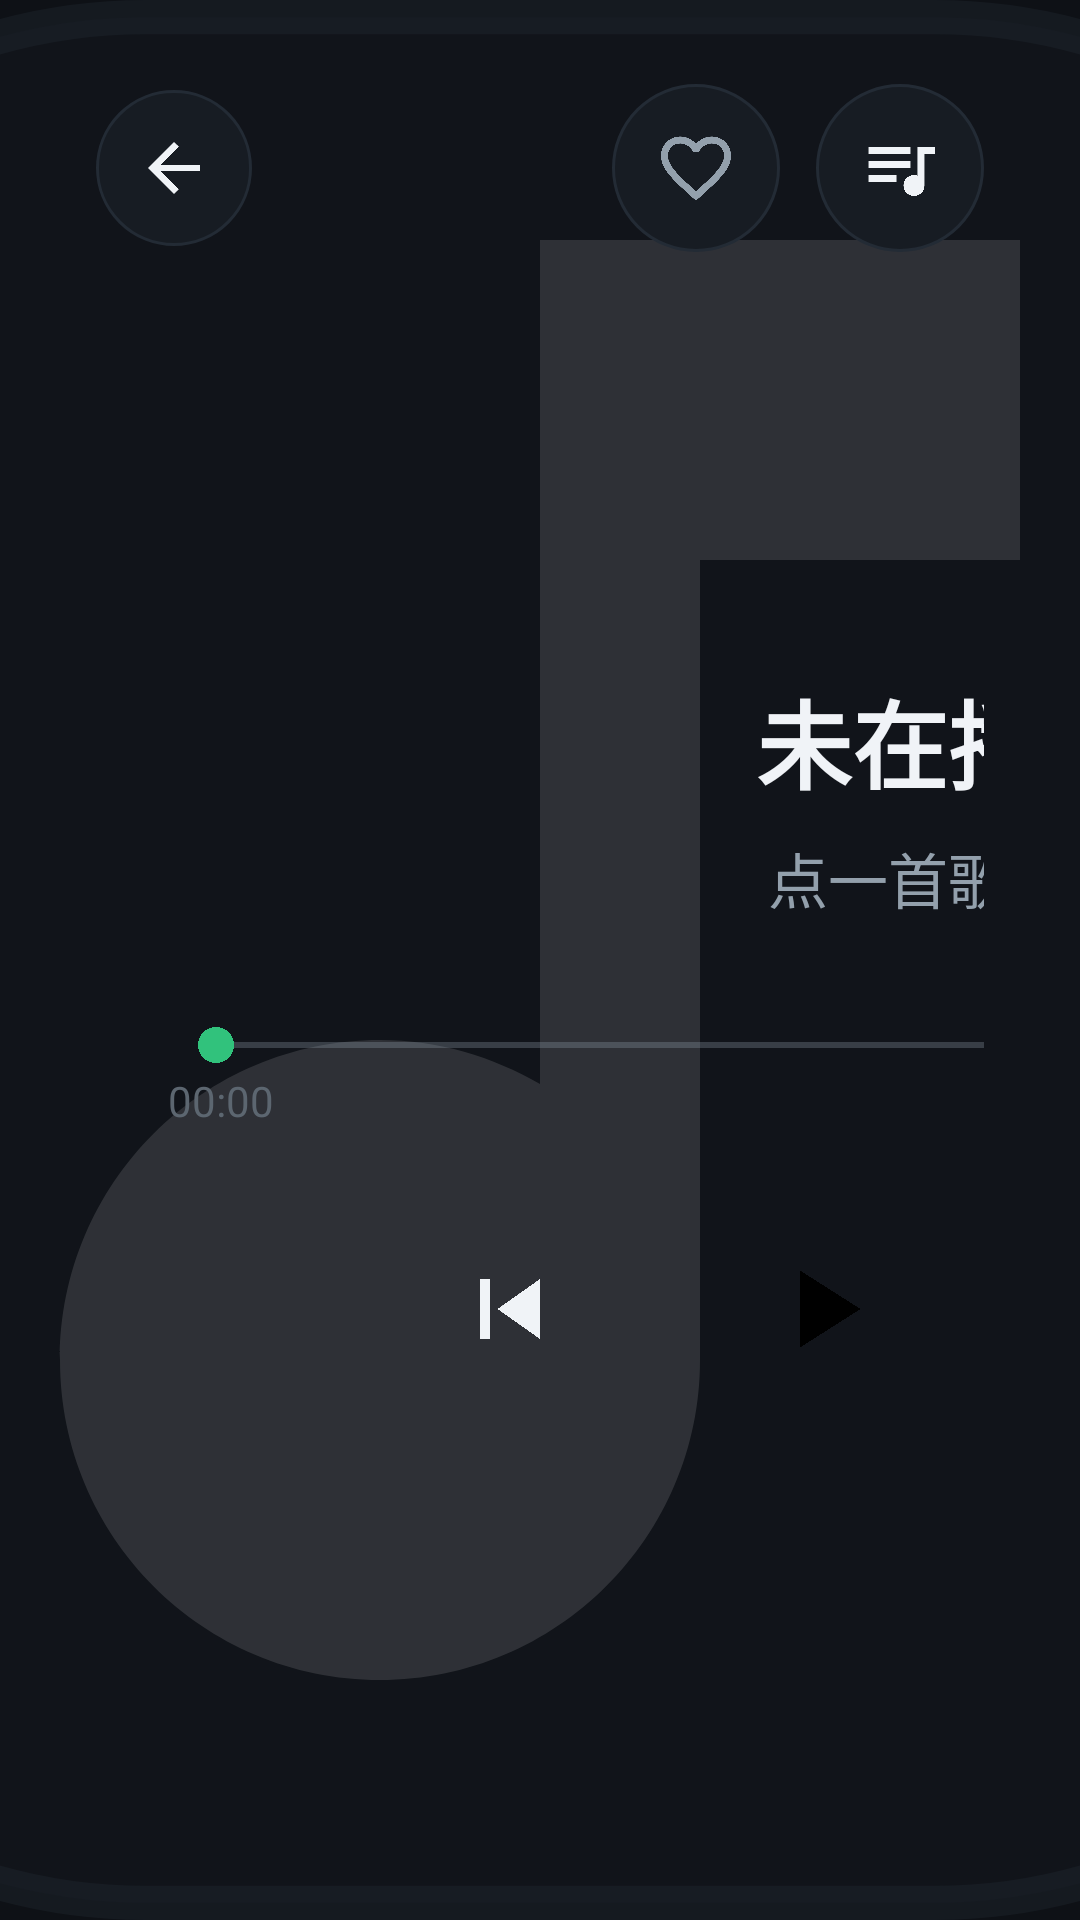

Icons on this 1080 x 1920 Android screen, each with the point to tap as (x=x, y=y):
上一曲: (x=510, y=1309)
播放队列: (x=900, y=168)
收藏: (x=696, y=168)
返回: (x=174, y=168)
